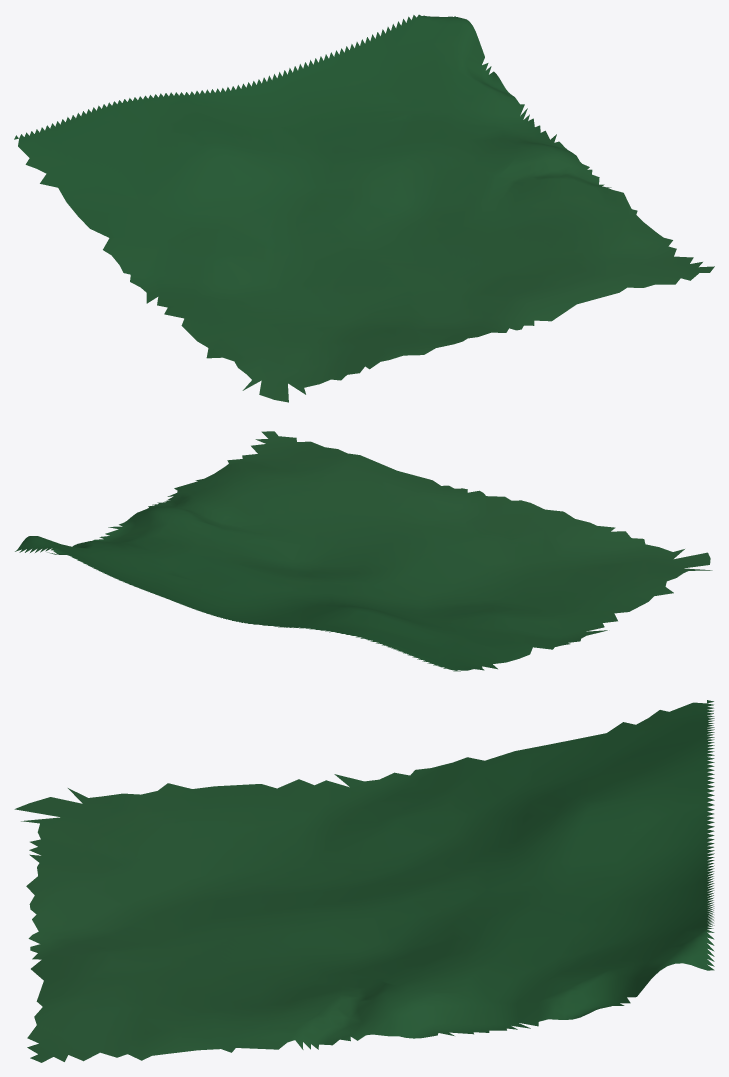
The model's file is payo_land_x1_y5_lod1.glb.
3 views of the same model, one above another, from view 1: azimuth 30°, elevation 25°; view 2: azimuth 150°, elevation 25°; view 3: azimuth 270°, elevation 25° (orthographic). The views are drawn at different scales.
Visible parts, largest first — view 1: payo_land_x1_y5; view 2: payo_land_x1_y5; view 3: payo_land_x1_y5.
Boxes of the visible parts, x1,y1,x2,y2 form: payo_land_x1_y5: (14,14,714,402); payo_land_x1_y5: (15,431,712,671); payo_land_x1_y5: (14,700,714,1062).
Size of the model in its own units: 269 by 55.55 by 265.
